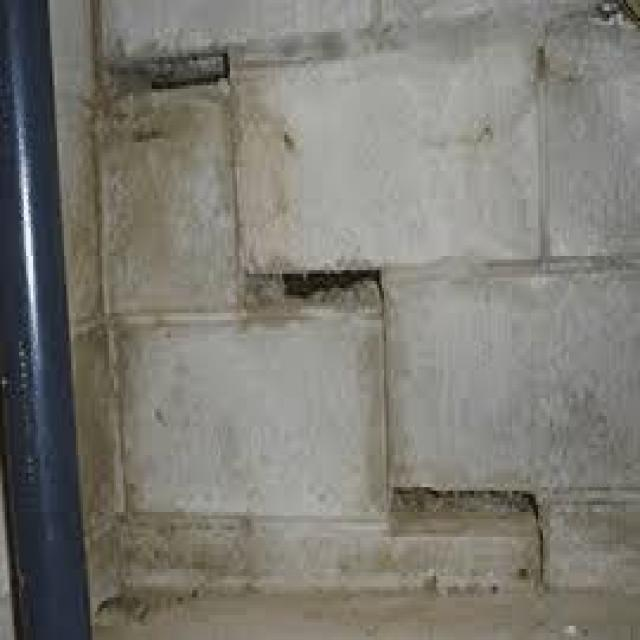Crack: (88, 4, 545, 590)
